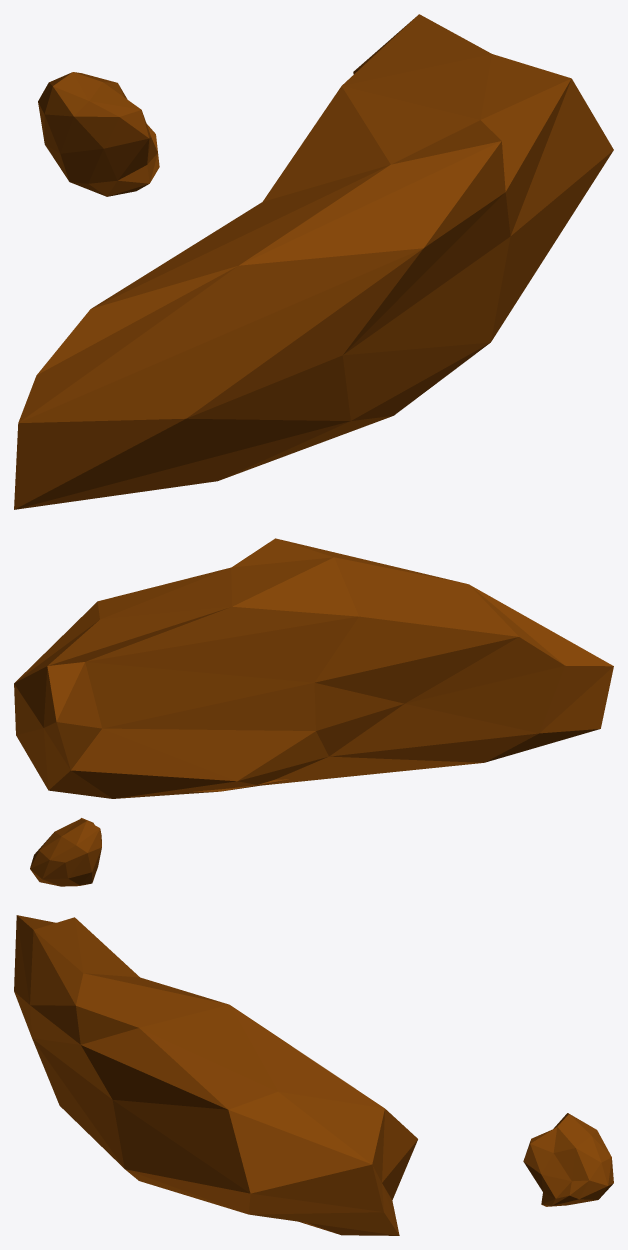
Rendered from Rock7.obj.
3 renders of one model, top to bottom at view 1: azimuth 30°, elevation 25°; view 2: azimuth 150°, elevation 25°; view 3: azimuth 270°, elevation 25°, orthographic. The views are drawn at different scales.
Visible parts, largest first — view 1: Icosphere.011; view 2: Icosphere.011; view 3: Icosphere.011.
Boxes of the visible parts, x1=… form: Icosphere.011: x1=14, y1=14, x2=613, y2=509; Icosphere.011: x1=14, y1=538, x2=613, y2=886; Icosphere.011: x1=14, y1=915, x2=613, y2=1235.
Size of the model in its own units: 3.44 by 1.37 by 3.5.
1 material, 1 textured.
